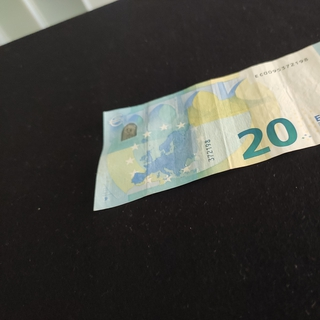20EUROBack: (92, 40, 320, 211)
